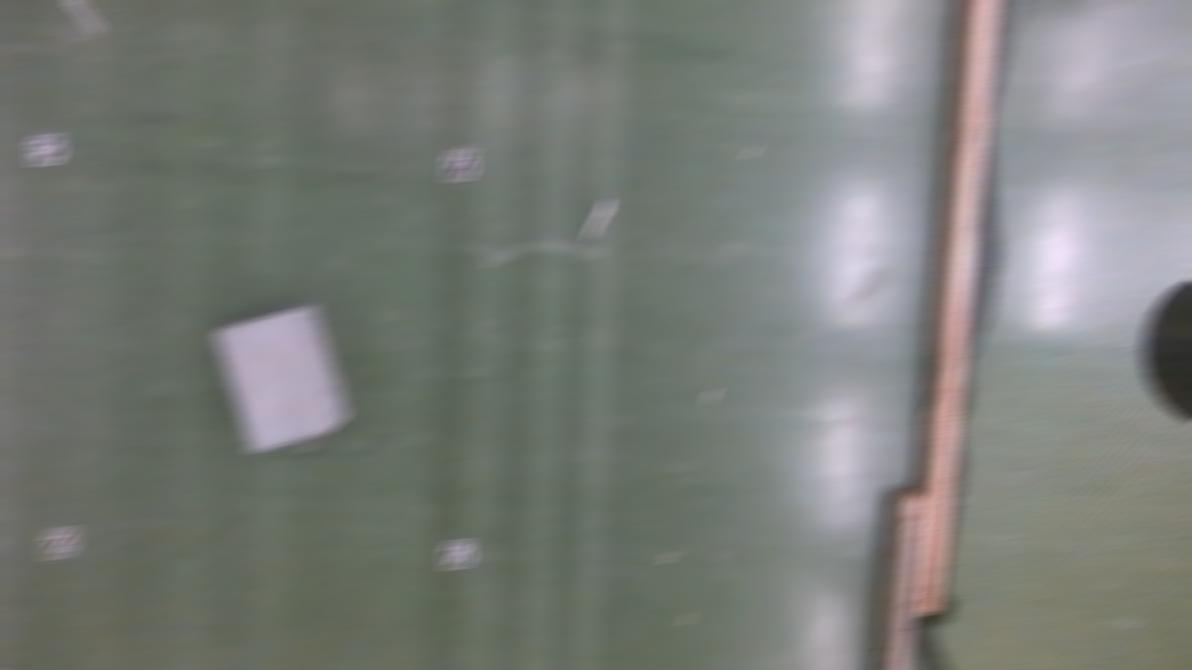probes: (66, 0, 103, 36), (587, 195, 614, 238)
rako: (213, 299, 351, 454)
